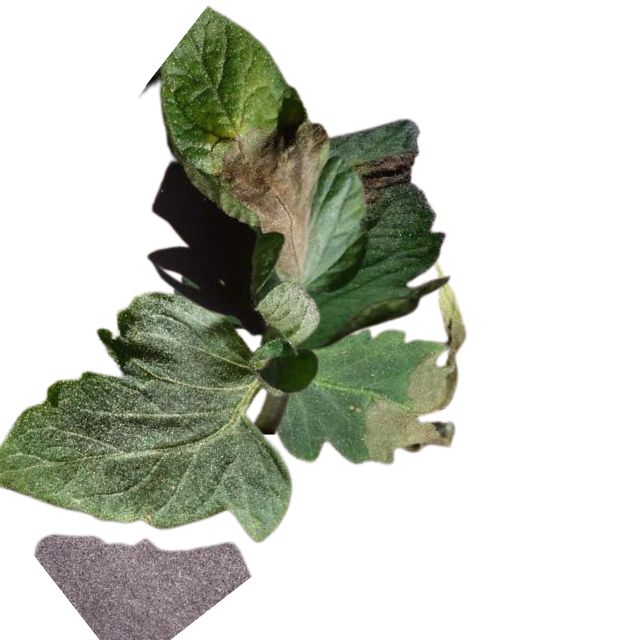Late_blight: (218, 121, 328, 277), (361, 313, 466, 464), (351, 150, 418, 205)
